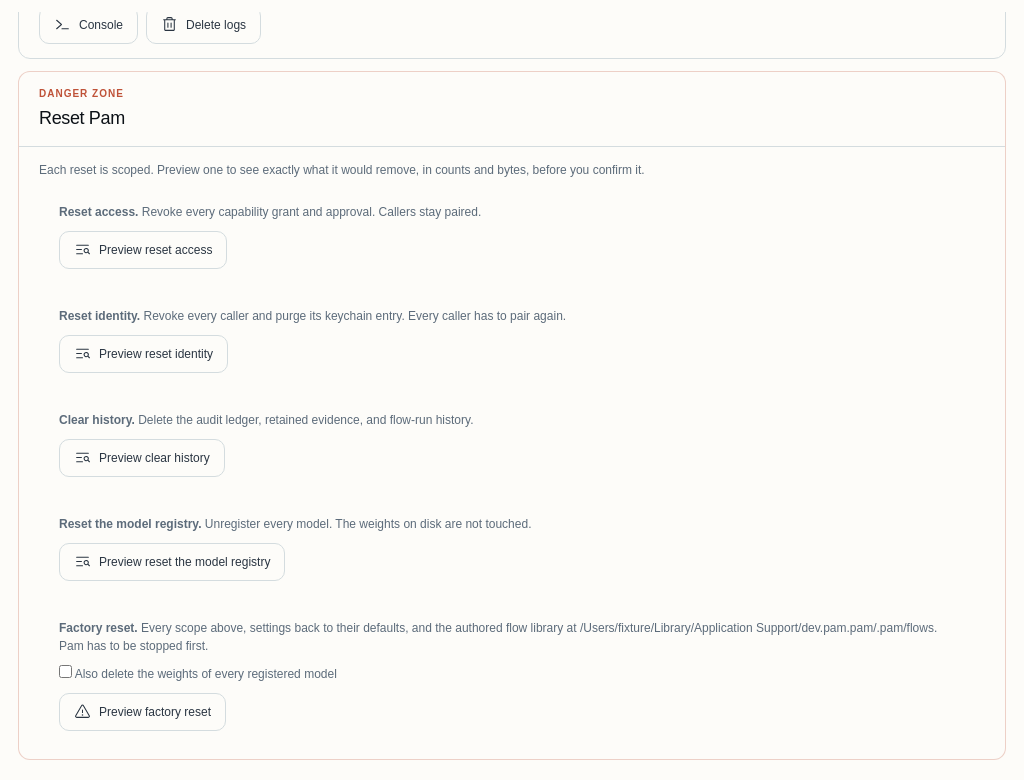
Scenario: SettingsView danger zone › carries the weights opt-in into the factory preview
The width and height of the screenshot is (1024, 780).
(page scrolled)
Click the checkbox labelled "Also delete the weights of every registered model". click: (66, 671)
box: [59,665,72,678]
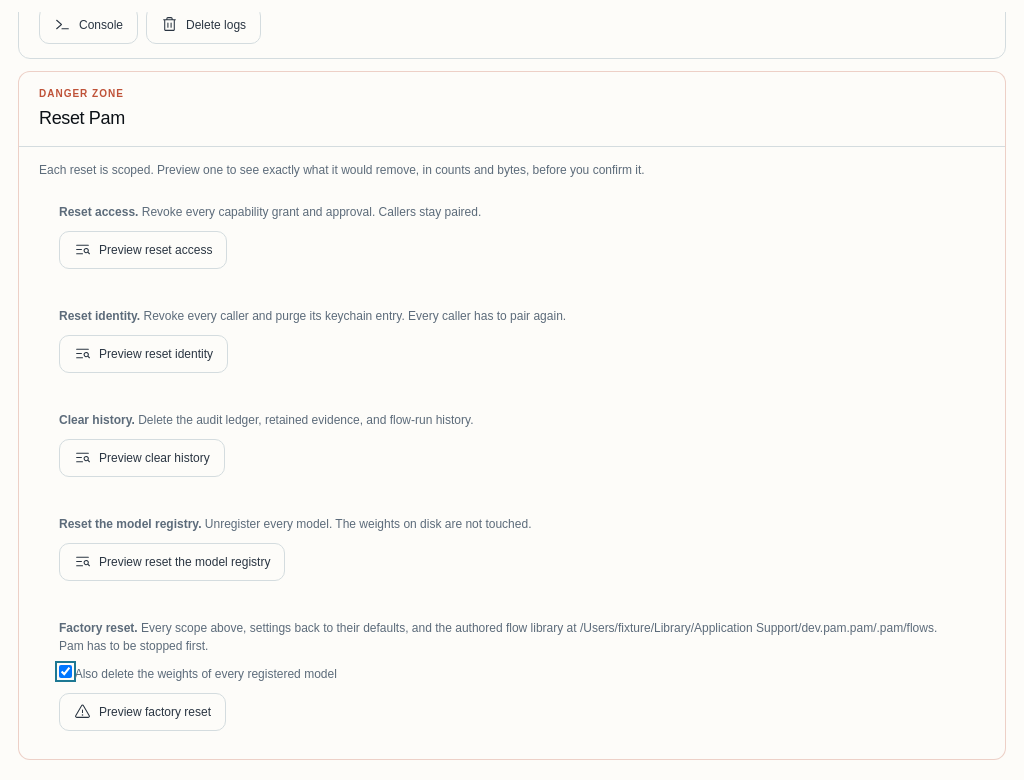
Click the button "Preview factory reset". click: (142, 712)
box: [59,693,226,731]
(page scrolled)
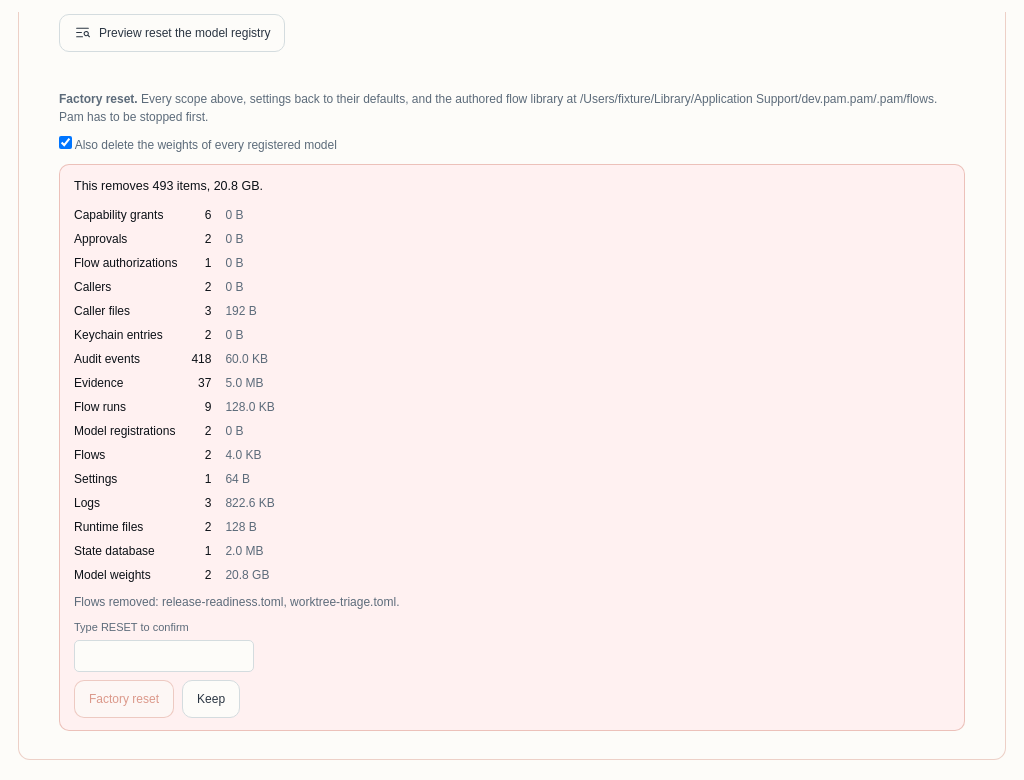
Check: the text "Model weights" is shown, box [74,563,191,587]
